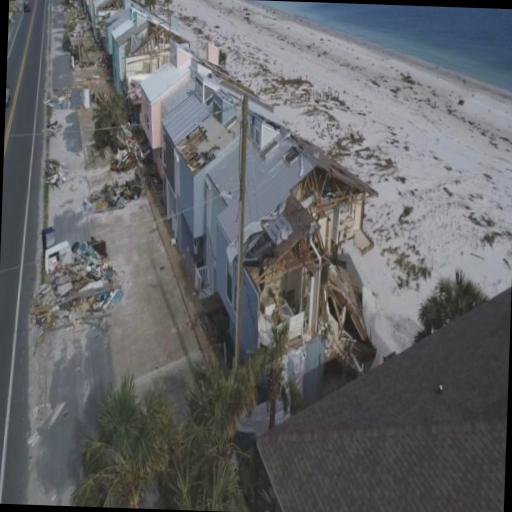flood: (257, 0, 512, 90)
house: (210, 132, 372, 350), (152, 66, 256, 253), (130, 62, 194, 150), (98, 6, 158, 92), (81, 0, 117, 41)
